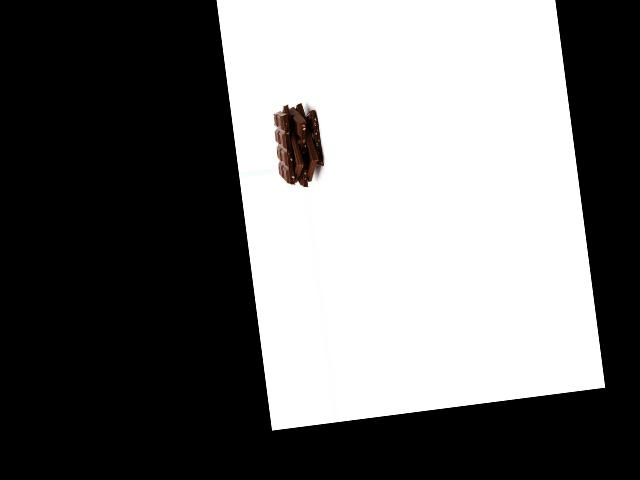chocolate: (289, 102, 330, 182)
